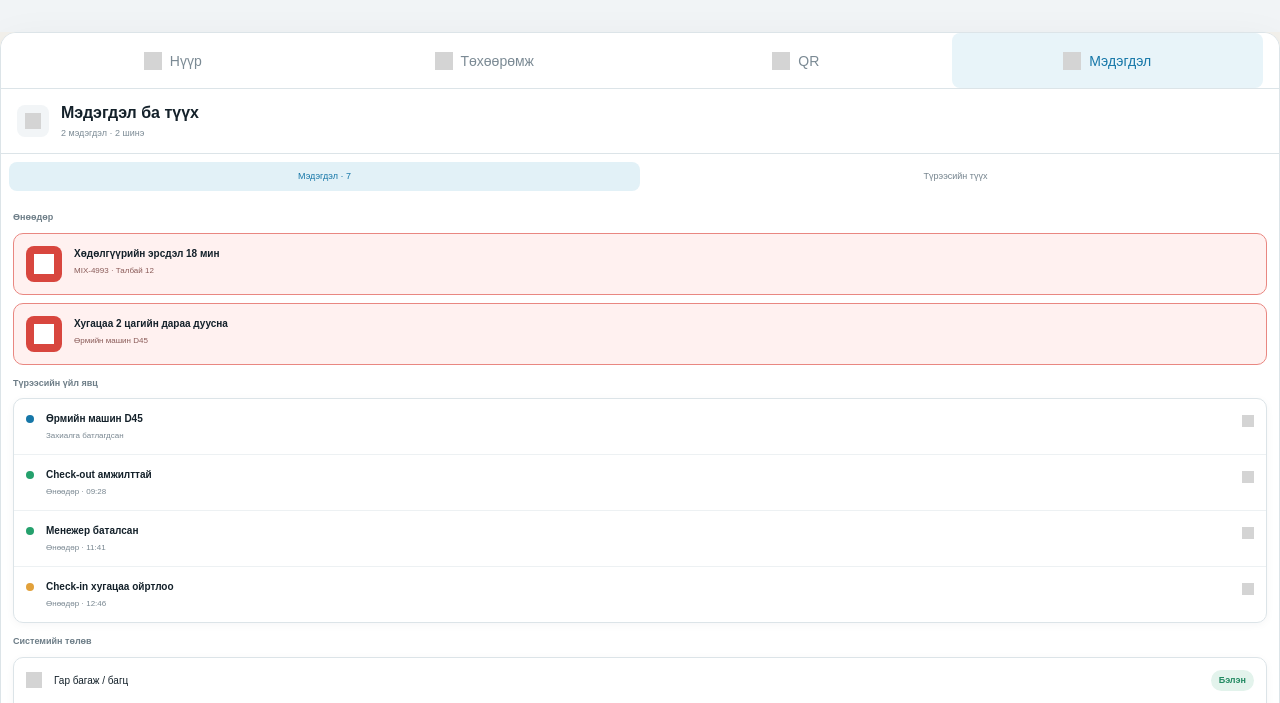
MobileOpsApp screens › follows hash changes and routes notifications to their destination
Expected: the heading "Мэдэгдэл ба түүх" is shown, 61,101 -> 199,125
Click the button "Мэдэгдэл · 7".
click(324, 176)  # box 9,162 -> 640,191
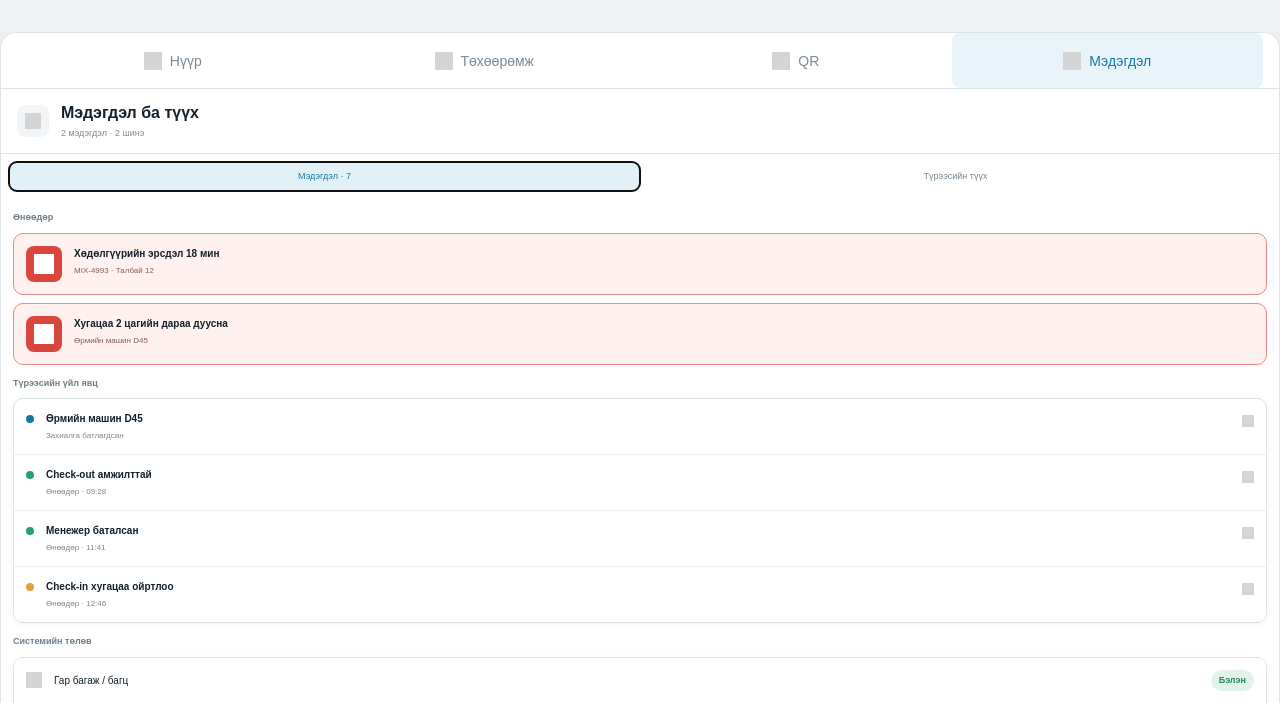
Click the button "Хөдөлгүүрийн эрсдэл 18 мин MIX-4993 · Талбай 12".
click(44, 264)  # box 13,232 -> 1267,294
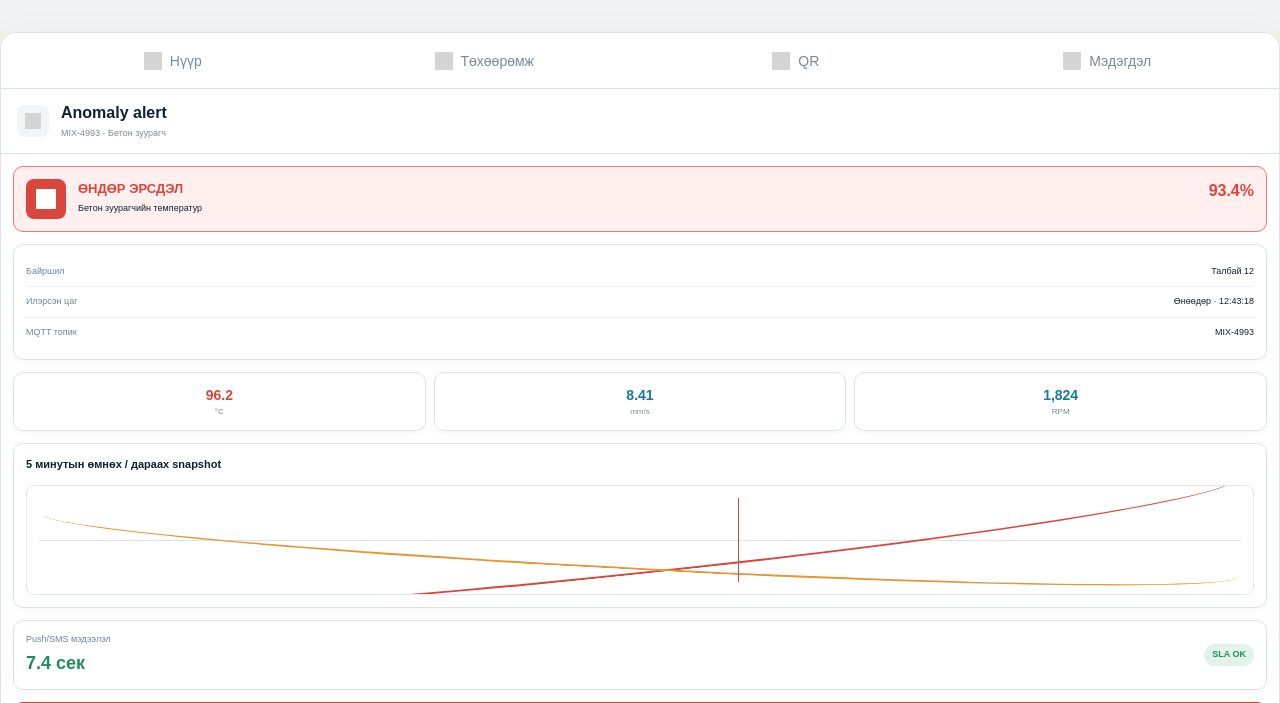
Expected: the heading "Anomaly alert" is shown, 61,101 -> 167,125
